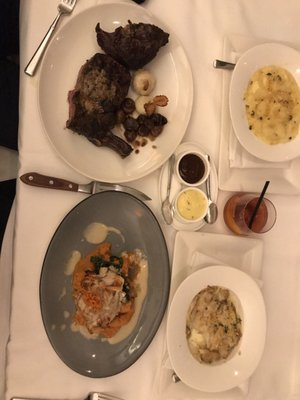burger: (24, 0, 78, 74)
sushi: (13, 0, 195, 184), (39, 187, 172, 379), (165, 266, 267, 394), (229, 43, 300, 163)
